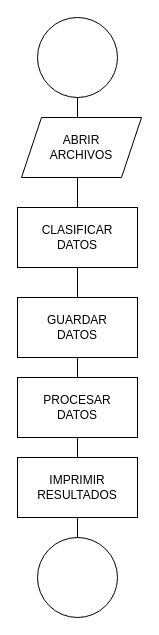
Some shapes in this 159 by 635 pixel diagram are drawn without their labels. The shapes that lost their labels are listed below. From the top down, each one's box as (x1, y1, x2, y2) in pixels, then its label:
(36, 16, 118, 98): INICIO
(36, 536, 118, 618): FIN
